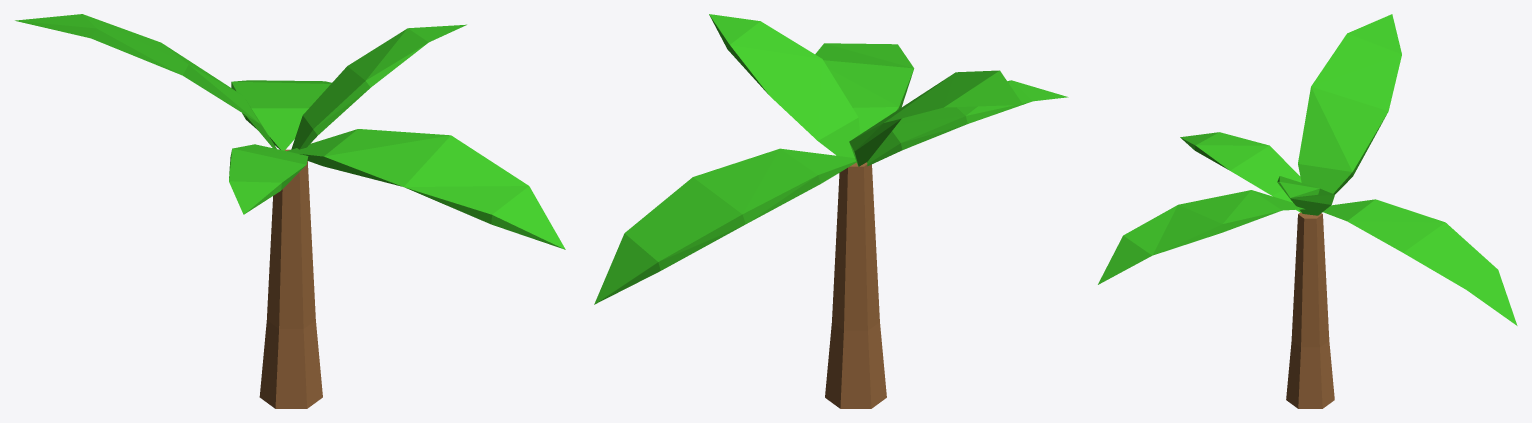
Rendered from palm4mini.fbx.
3 renders of one model, left to right at view 1: azimuth 30°, elevation 25°; view 2: azimuth 150°, elevation 25°; view 3: azimuth 270°, elevation 25°, orthographic. The views are drawn at different scales.
Parts seen in each view (by area): view 1: tree_palm4mini; view 2: tree_palm4mini; view 3: tree_palm4mini.
Boxes of the visible parts, x1,y1,x2,y2 form: tree_palm4mini: (15, 14, 565, 408); tree_palm4mini: (594, 14, 1068, 408); tree_palm4mini: (1098, 14, 1517, 408).
Bounding box in the file's own units: 148 × 143 × 181.
